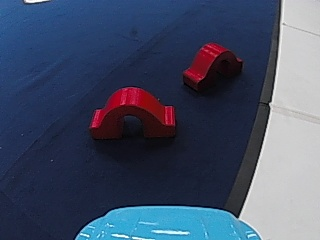bridge: (84, 81, 176, 140), (181, 38, 243, 94)
